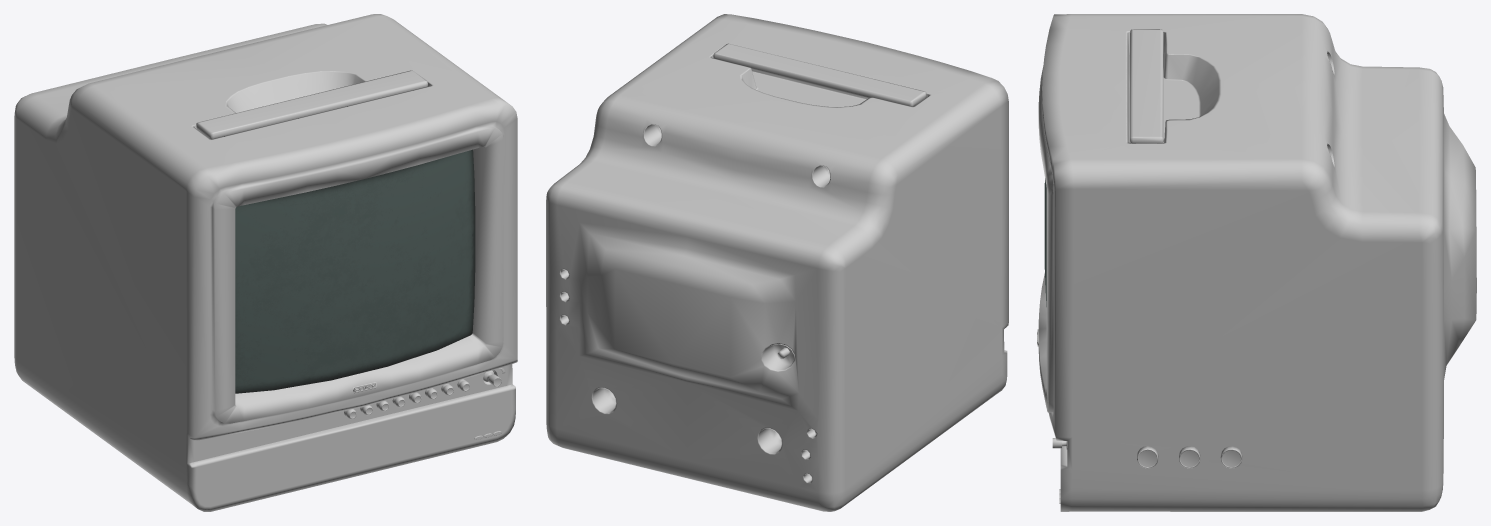
The model's file is building_50.fbx.
3 renders of one model, left to right at view 1: azimuth 30°, elevation 25°; view 2: azimuth 150°, elevation 25°; view 3: azimuth 270°, elevation 25°, orthographic. The views are drawn at different scales.
Parts seen in each view (by area): view 1: TV_body_low; view 2: TV_body_low; view 3: TV_body_low.
Part boxes in pixels (x1,y1,x2,y2): TV_body_low: (14, 14, 517, 511); TV_body_low: (546, 14, 1008, 511); TV_body_low: (1037, 14, 1476, 511).
Size of the model in its own units: 673 by 668 by 750.
